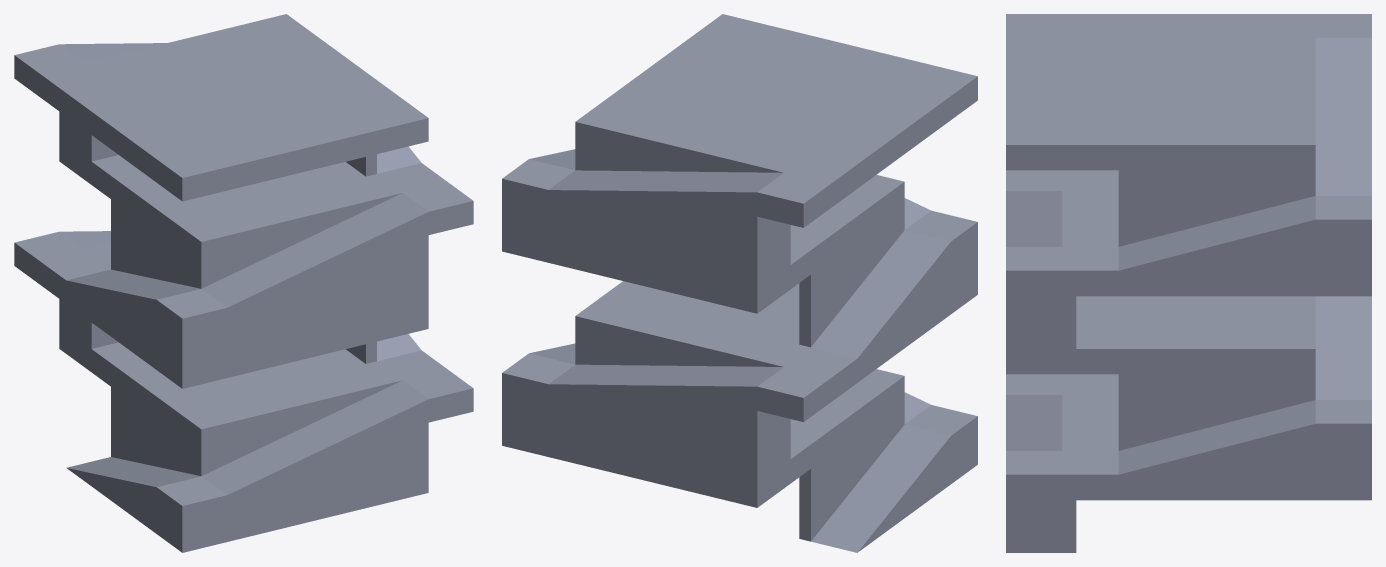
The model's file is townhouse_0001_v01.gltf.
3 views of the same model, side by side, from view 1: azimuth 30°, elevation 25°; view 2: azimuth 150°, elevation 25°; view 3: azimuth 270°, elevation 25° (orthographic). The views are drawn at different scales.
Parts seen in each view (by area): view 1: Massing; view 2: Massing; view 3: Massing.
Part boxes in pixels (x1,y1,x2,y2): Massing: (14, 14, 473, 552); Massing: (502, 14, 977, 552); Massing: (1006, 14, 1371, 552).
Size of what is drawn, in the model's own units: 13 by 16 by 13.
